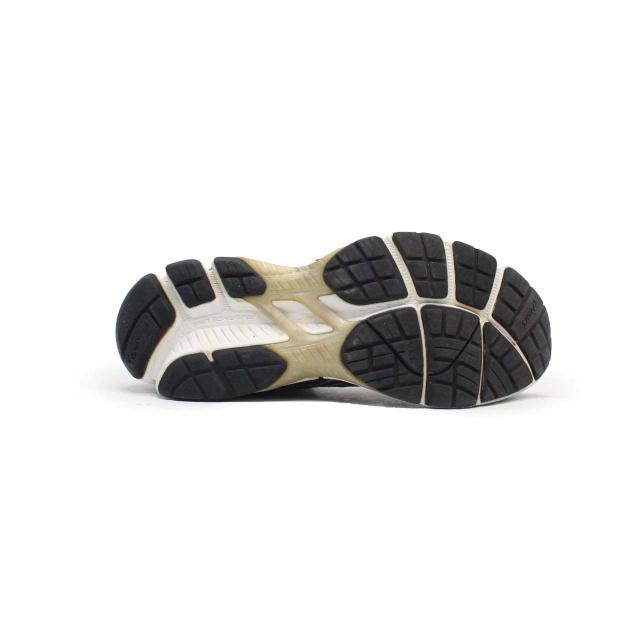outersole: (119, 233, 552, 414)
